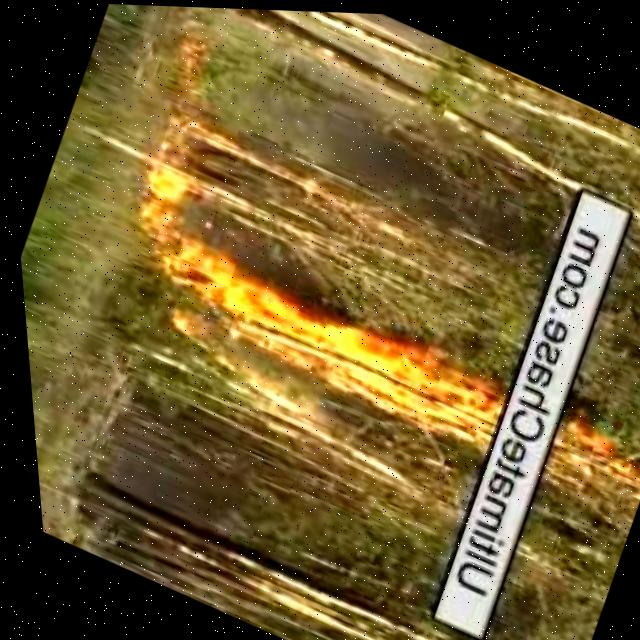Fire: (199, 246, 507, 450), (95, 145, 247, 311), (533, 410, 636, 491)
